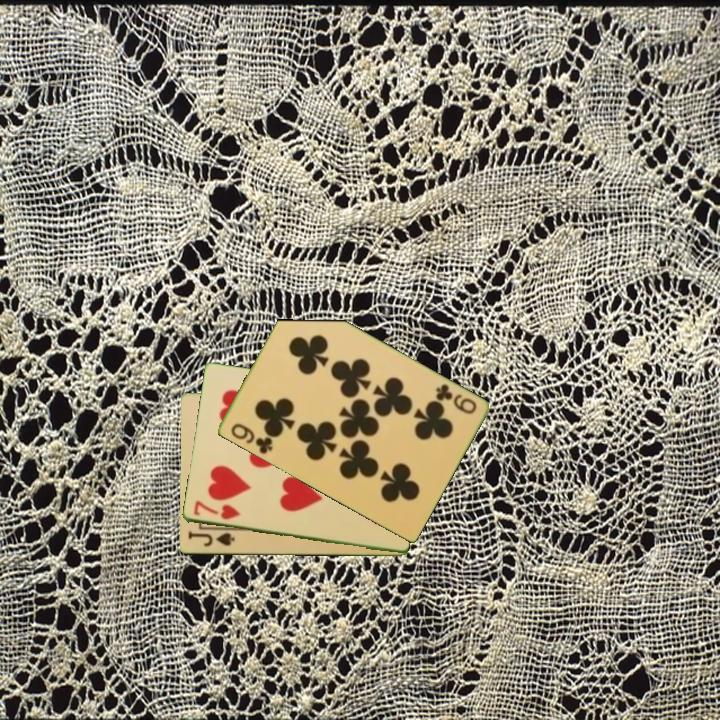7h: (190, 497, 243, 523)
9c: (227, 420, 275, 457), (432, 380, 479, 417)
Js: (184, 528, 237, 550)
